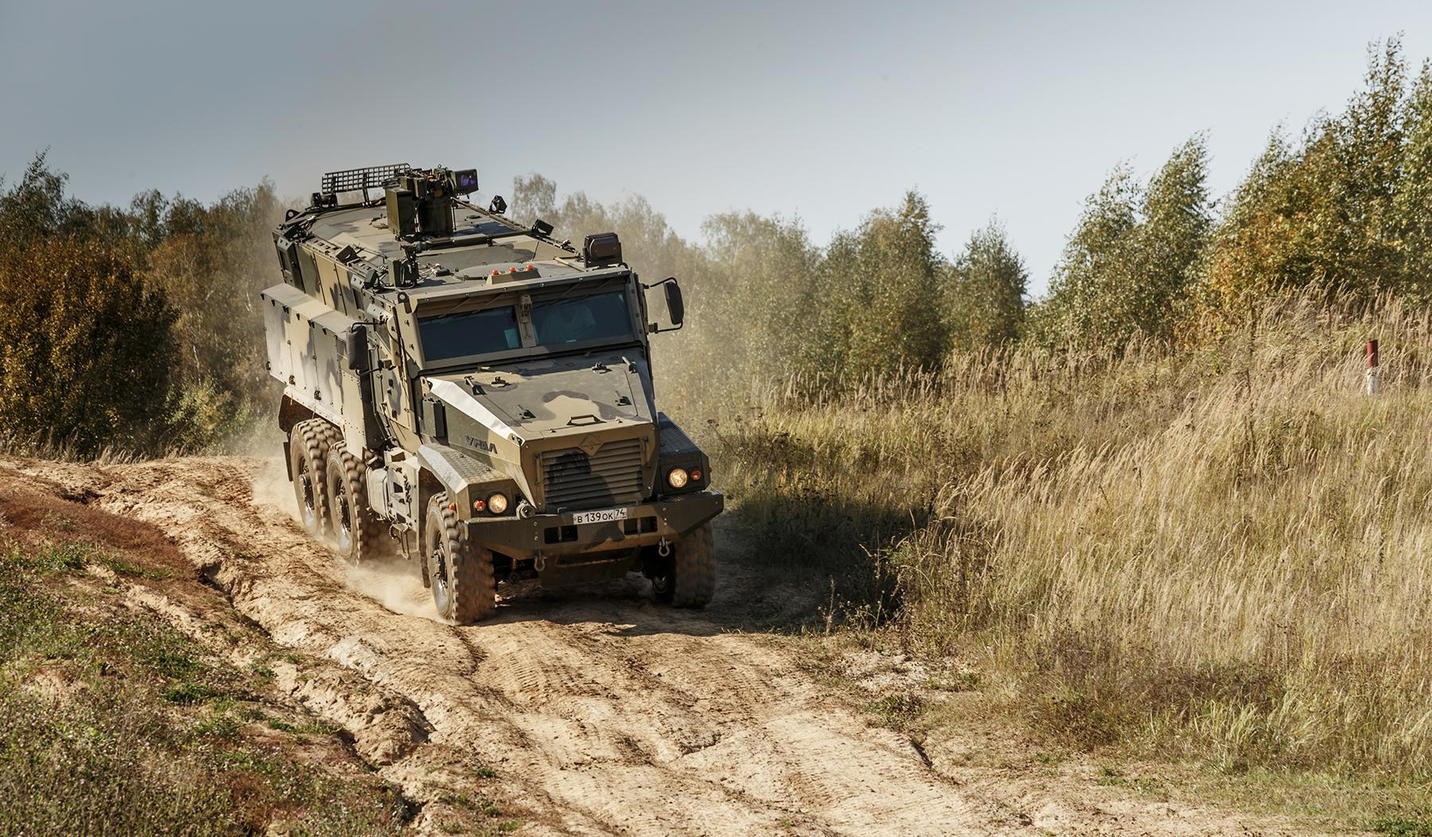truck: (259, 161, 726, 628)
